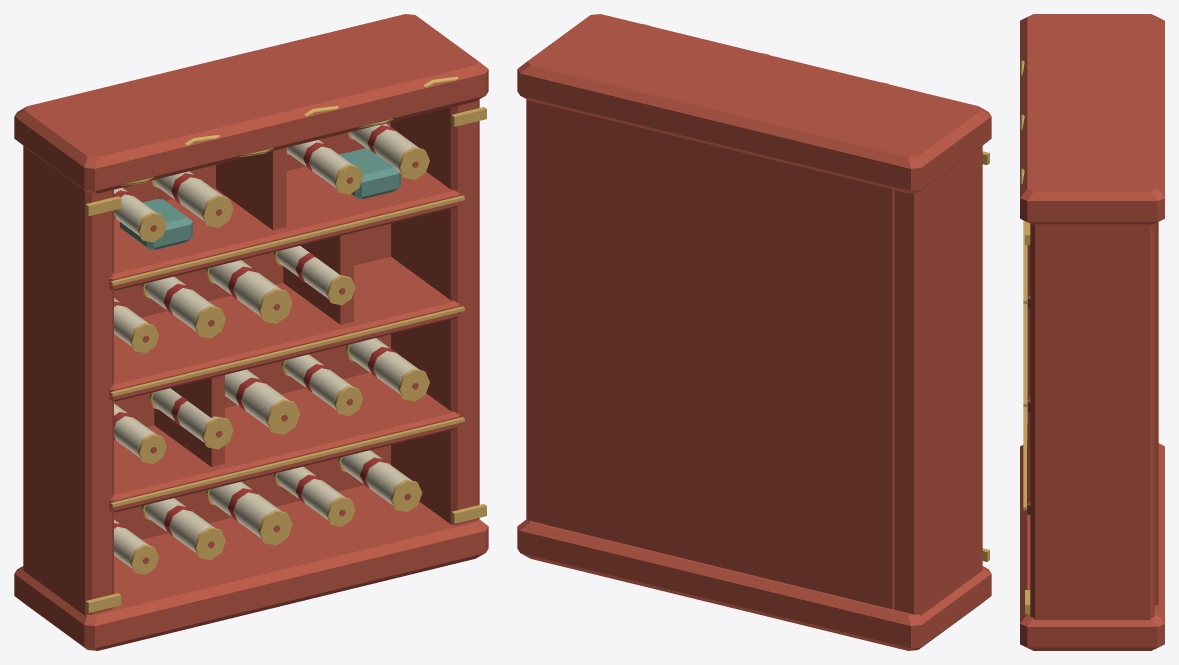
File: scroll_shelf.glb
3 views of the same model, side by side, from view 1: azimuth 30°, elevation 25°; view 2: azimuth 150°, elevation 25°; view 3: azimuth 270°, elevation 25° (orthographic). The views are drawn at different scales.
Parts seen in each view (by area): view 1: scroll_shelf_Timber, scroll_shelf_Paper, scroll_shelf_Gold, scroll_shelf_Cloth, scroll_shelf_Jade; view 2: scroll_shelf_Timber; view 3: scroll_shelf_Timber, scroll_shelf_Gold.
Part boxes in pixels (x1=…): scroll_shelf_Timber: x1=14, y1=14, x2=488, y2=650; scroll_shelf_Paper: x1=114, y1=124, x2=419, y2=568; scroll_shelf_Gold: x1=85, y1=76, x2=486, y2=612; scroll_shelf_Cloth: x1=114, y1=125, x2=396, y2=536; scroll_shelf_Jade: x1=120, y1=148, x2=400, y2=249; scroll_shelf_Timber: x1=517, y1=14, x2=991, y2=650; scroll_shelf_Timber: x1=1020, y1=14, x2=1164, y2=650; scroll_shelf_Gold: x1=1020, y1=60, x2=1030, y2=614.
Size of the model in its own units: 2.1 by 2.45 by 0.7.
